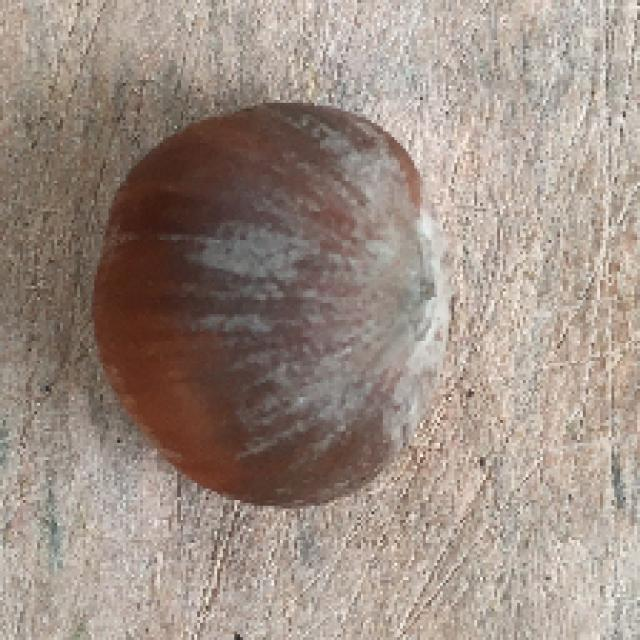damagedHazelnut: (92, 102, 448, 511)
